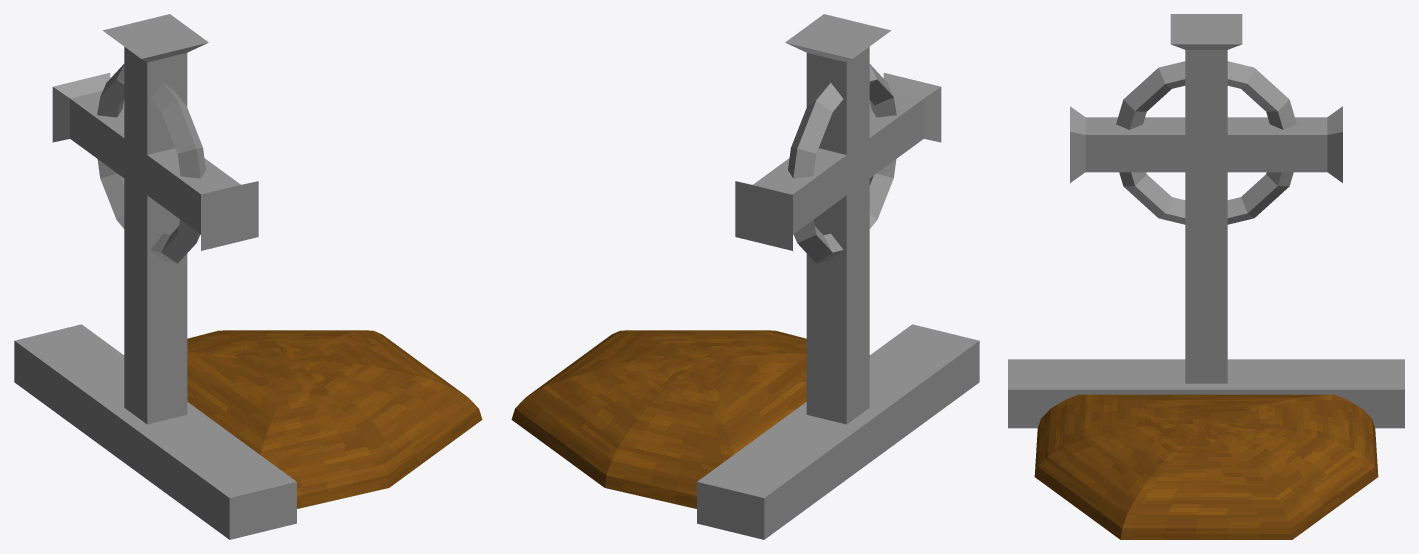
File: graveyard2.obj
3 renders of one model, left to right at view 1: azimuth 30°, elevation 25°; view 2: azimuth 150°, elevation 25°; view 3: azimuth 270°, elevation 25°, orthographic. The views are drawn at different scales.
Visible parts, largest first — view 1: Cube.001_Cube.002, Sphere, Cube_Cube.001; view 2: Cube.001_Cube.002, Sphere, Cube_Cube.001; view 3: Sphere, Cube.001_Cube.002, Cube_Cube.001.
Part boxes in pixels (<box>): Cube.001_Cube.002: <box>52,14,258,424</box>; Sphere: <box>187,330,482,508</box>; Cube_Cube.001: <box>14,324,296,539</box>; Cube.001_Cube.002: <box>735,14,941,424</box>; Sphere: <box>511,330,806,508</box>; Cube_Cube.001: <box>697,324,979,539</box>; Sphere: <box>1034,394,1378,539</box>; Cube.001_Cube.002: <box>1070,14,1342,383</box>; Cube_Cube.001: <box>1008,359,1404,428</box>.
Size of the model in its own units: 15.73 by 19.98 by 18.67.
2 materials, 2 textured.
